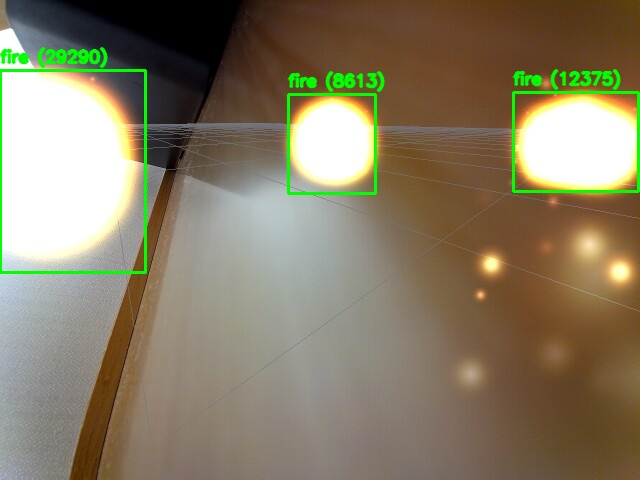fire: (0, 70, 145, 272), (513, 92, 638, 191), (288, 94, 375, 193)
